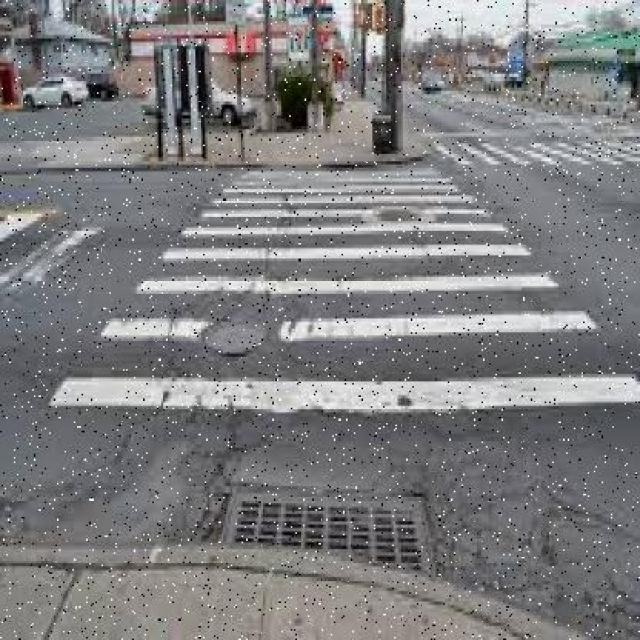crosswalk: (0, 165, 639, 456), (424, 139, 640, 168)
